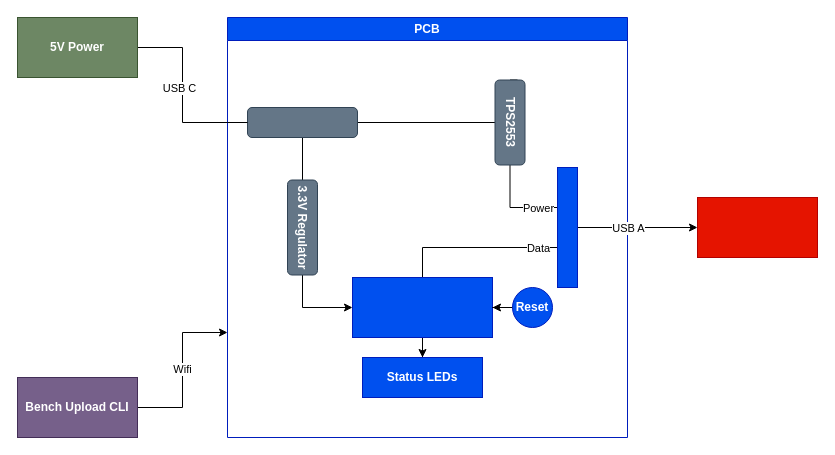
Some shapes in this 835 by 455 pixel diagram are drawn without their labels. The box of each missing label's shape, as (x1, y1, x2, y2) in pixels:
Arduino Uno R3: (696, 196, 818, 258)
ESP32-S3-WROOM-1: (352, 276, 492, 338)
Input Protection: (246, 106, 358, 138)
USB-A Host Port: (556, 166, 578, 288)
